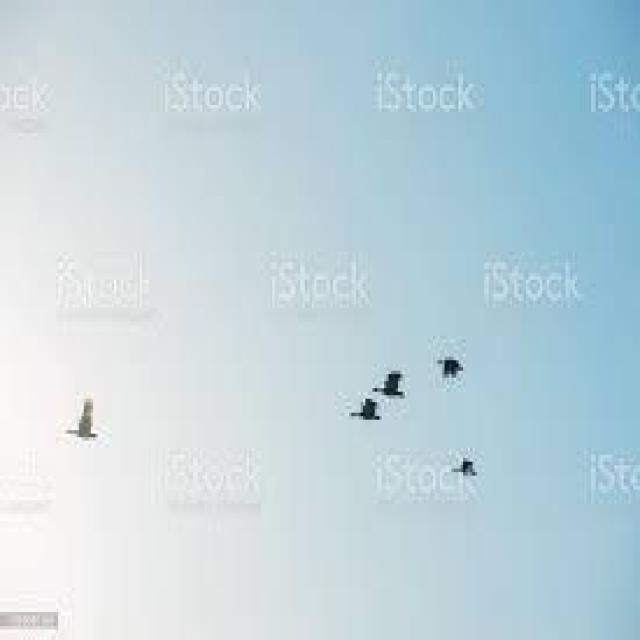bird: (64, 395, 106, 444), (374, 364, 407, 400), (349, 393, 381, 425), (434, 353, 467, 381), (452, 451, 479, 479)
